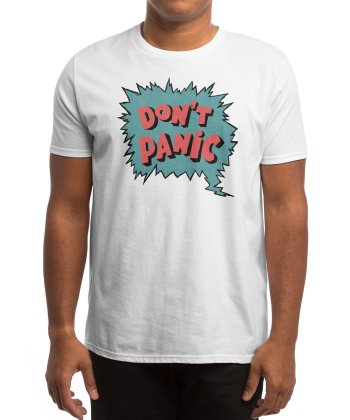design: (115, 76, 241, 201)
